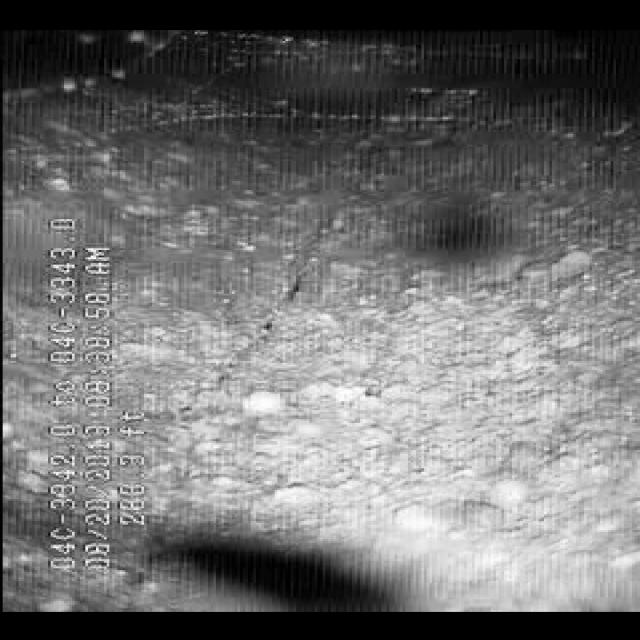Crack: (171, 228, 345, 408)
